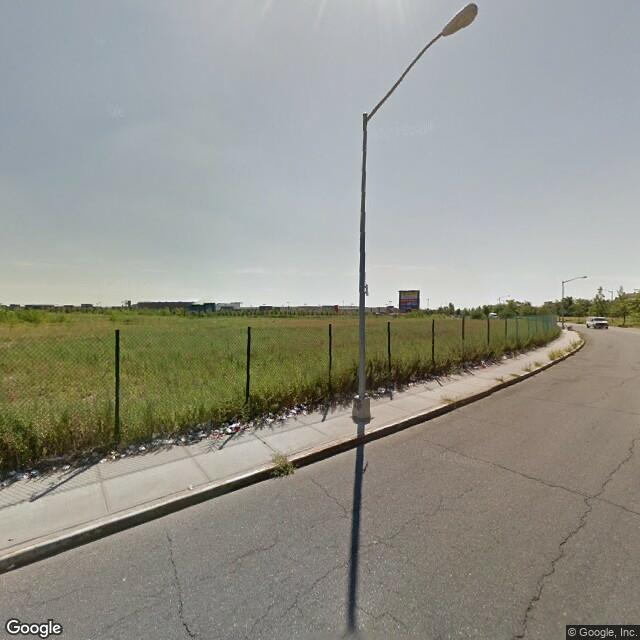litter: (131, 434, 184, 450), (1, 466, 43, 483), (95, 449, 126, 467), (220, 418, 247, 438), (54, 455, 78, 475), (264, 409, 295, 422), (495, 351, 515, 361), (401, 378, 420, 387)
